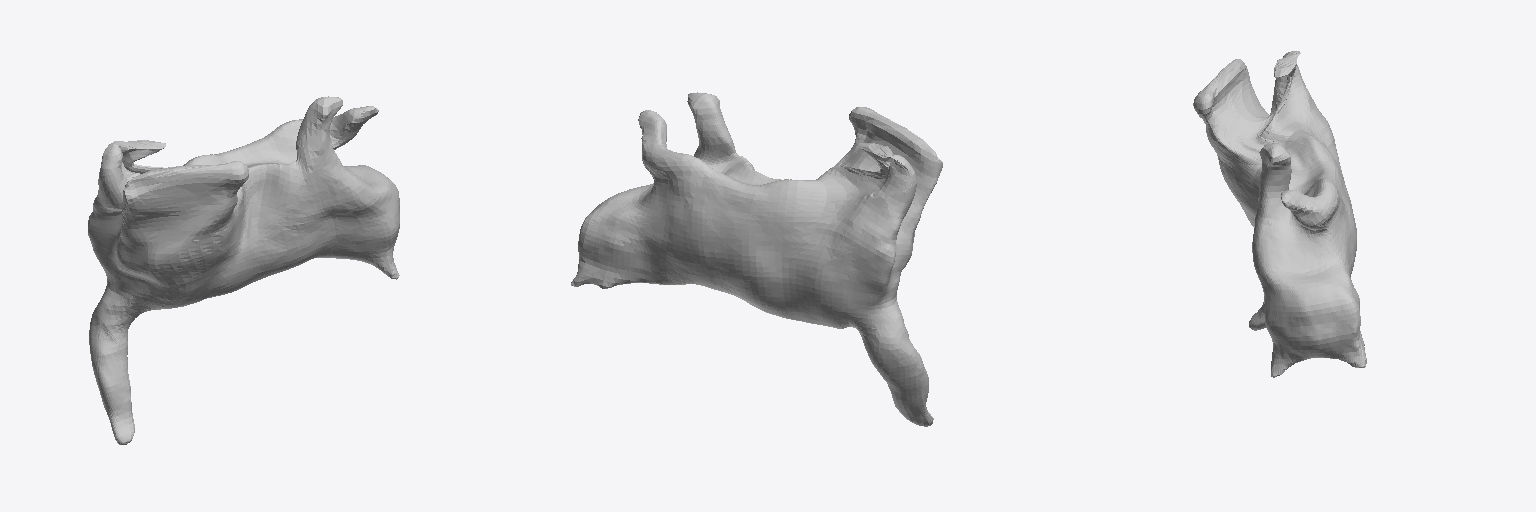
File: fg-00022-geo-color.obj
3 renders of one model, left to right at view 1: azimuth 30°, elevation 25°; view 2: azimuth 150°, elevation 25°; view 3: azimuth 270°, elevation 25°, orthographic.
Size of the model in its own units: 0.2748 by 0.2387 by 0.1302.